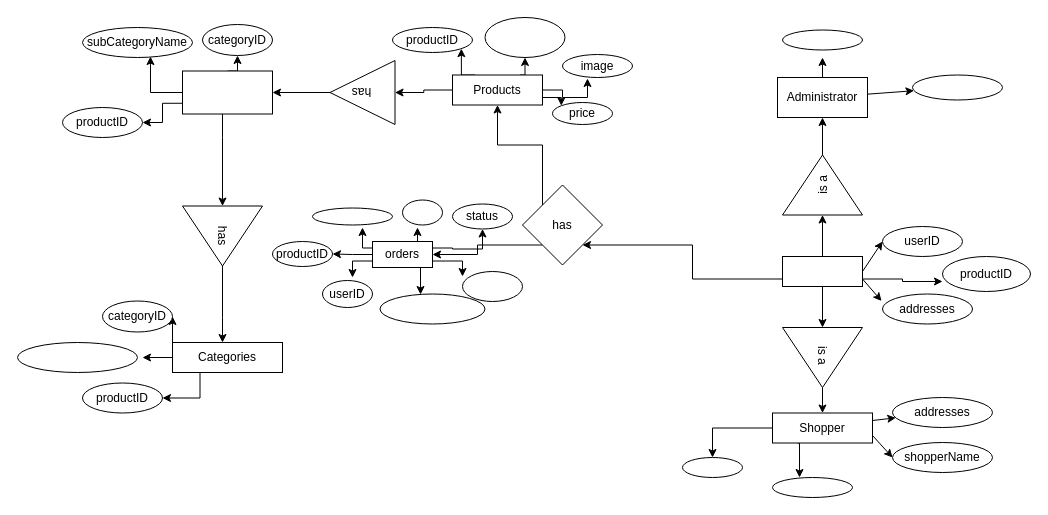
Some shapes in this 1048 by 515 pixel diagram are drawn without their labels. The shapes that lost their labels are listed below. From the top down, each one's centre as x and y in pixels, then its label:
pixel 524 37: productName
pixel 822 39: adminId
pixel 227 92: SubCategories
pixel 957 87: adminName
pixel 352 216: orderID
pixel 422 212: date
pixel 492 286: amount
pixel 822 271: User
pixel 432 308: shippingAddress
pixel 77 357: categoryName
pixel 712 467: email
pixel 812 487: contact
